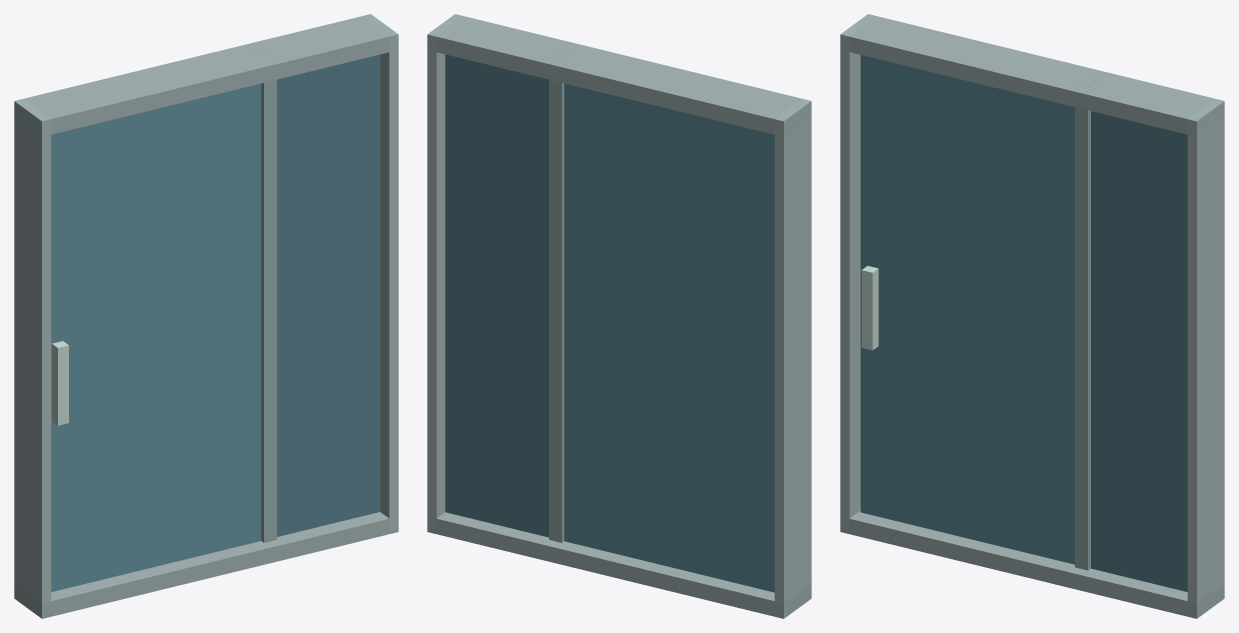
The model's file is CMU3DWindoor.glb.
3 renders of one model, left to right at view 1: azimuth 30°, elevation 25°; view 2: azimuth 150°, elevation 25°; view 3: azimuth 330°, elevation 25°, orthographic.
Parts seen in each view (by area): view 1: left glass pane, right glass pane, windoor outer stile (×2), windoor track (×2), sliding pane stile, windoor handle; view 2: left glass pane, right glass pane, windoor outer stile (×2), windoor track (×2), sliding pane stile; view 3: left glass pane, right glass pane, windoor outer stile (×2), windoor track (×2), sliding pane stile, windoor handle.
Boxes of the visible parts, x1=… form: left glass pane: x1=51, y1=83, x2=261, y2=591; right glass pane: x1=277, y1=54, x2=380, y2=536; windoor outer stile (×2): x1=14, y1=14, x2=398, y2=603; windoor track (×2): x1=14, y1=14, x2=398, y2=618; sliding pane stile: x1=250, y1=47, x2=276, y2=542; windoor handle: x1=52, y1=341, x2=68, y2=425; left glass pane: x1=564, y1=83, x2=774, y2=592; right glass pane: x1=445, y1=54, x2=548, y2=537; windoor outer stile (×2): x1=427, y1=14, x2=811, y2=603; windoor track (×2): x1=427, y1=14, x2=811, y2=618; sliding pane stile: x1=549, y1=48, x2=574, y2=542; left glass pane: x1=860, y1=55, x2=1074, y2=564; right glass pane: x1=1091, y1=111, x2=1187, y2=591; windoor outer stile (×2): x1=840, y1=14, x2=1224, y2=603; windoor track (×2): x1=840, y1=14, x2=1224, y2=618; sliding pane stile: x1=1075, y1=76, x2=1102, y2=570; windoor handle: x1=861, y1=266, x2=878, y2=350.
Bounding box in the file's own units: 0.96 × 1.28 × 0.13.
